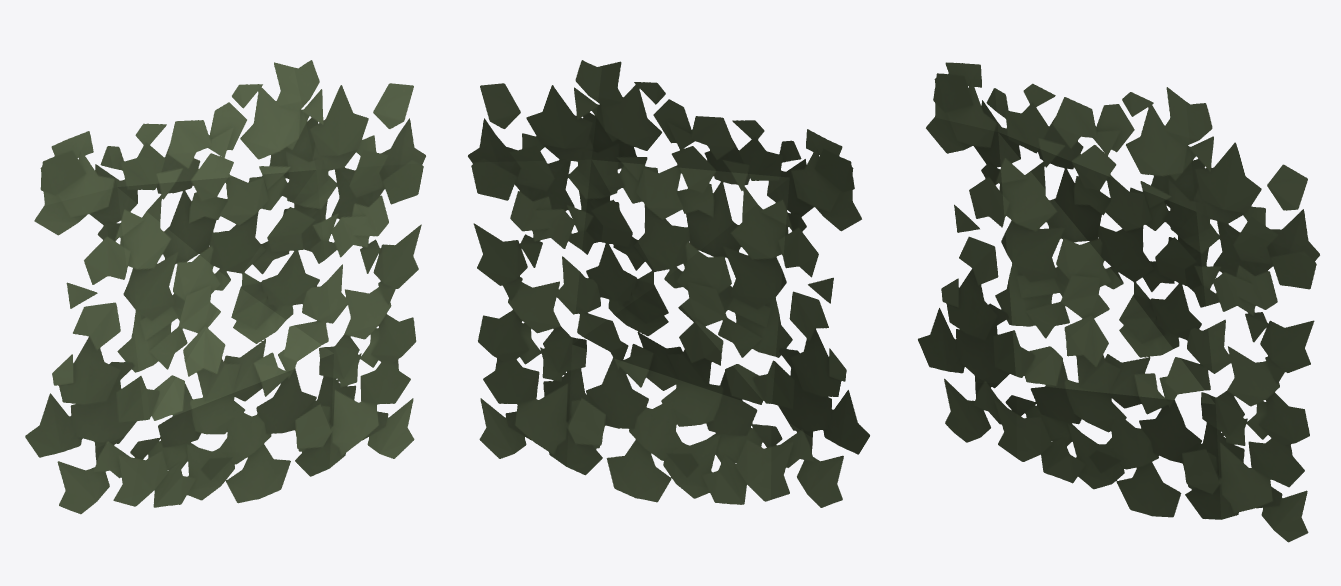
File: SM_Gen_Env_Ivy_03.obj
3 views of the same model, side by side, from view 1: azimuth 30°, elevation 25°; view 2: azimuth 150°, elevation 25°; view 3: azimuth 330°, elevation 25° (orthographic).
Visible parts, largest first — view 1: SM_Gen_Env_Ivy_03_0; view 2: SM_Gen_Env_Ivy_03_0; view 3: SM_Gen_Env_Ivy_03_0.
Boxes of the visible parts, x1,y1,x2,y2 form: SM_Gen_Env_Ivy_03_0: [25, 60, 425, 514]; SM_Gen_Env_Ivy_03_0: [468, 60, 869, 507]; SM_Gen_Env_Ivy_03_0: [918, 62, 1319, 542].
Size of the model in its own units: 1.57 by 1.63 by 0.0742.
1 material, 1 textured.
